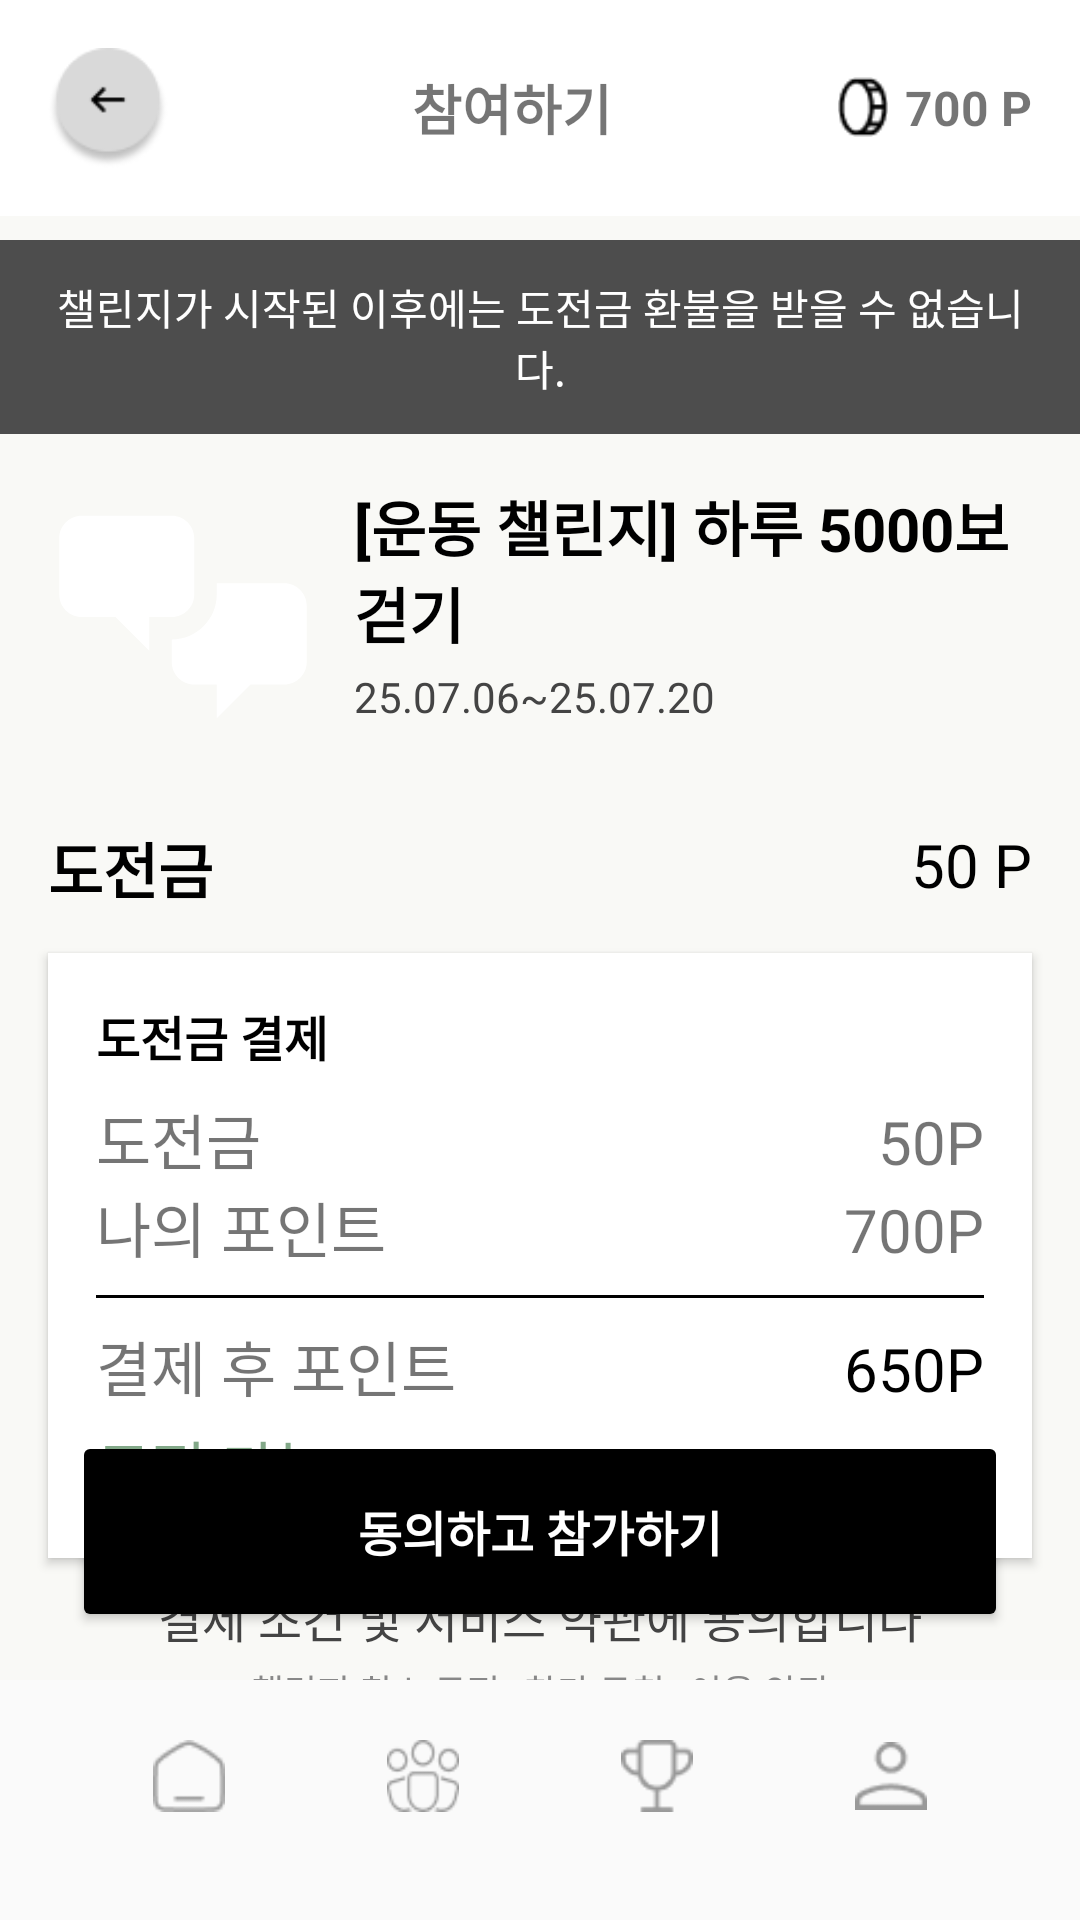

Icons on this 1080px x 1920px Android screen, each with its box as bbox=(x1, y1, x2, y2):
back: bbox=(55, 48, 161, 161)
point: bbox=(838, 77, 888, 137)
마이 아이콘: bbox=(855, 1742, 927, 1810)
챌린지 아이콘: bbox=(621, 1740, 693, 1812)
커뮤니티 아이콘: bbox=(387, 1740, 459, 1812)
홈 아이콘: bbox=(153, 1740, 225, 1812)
